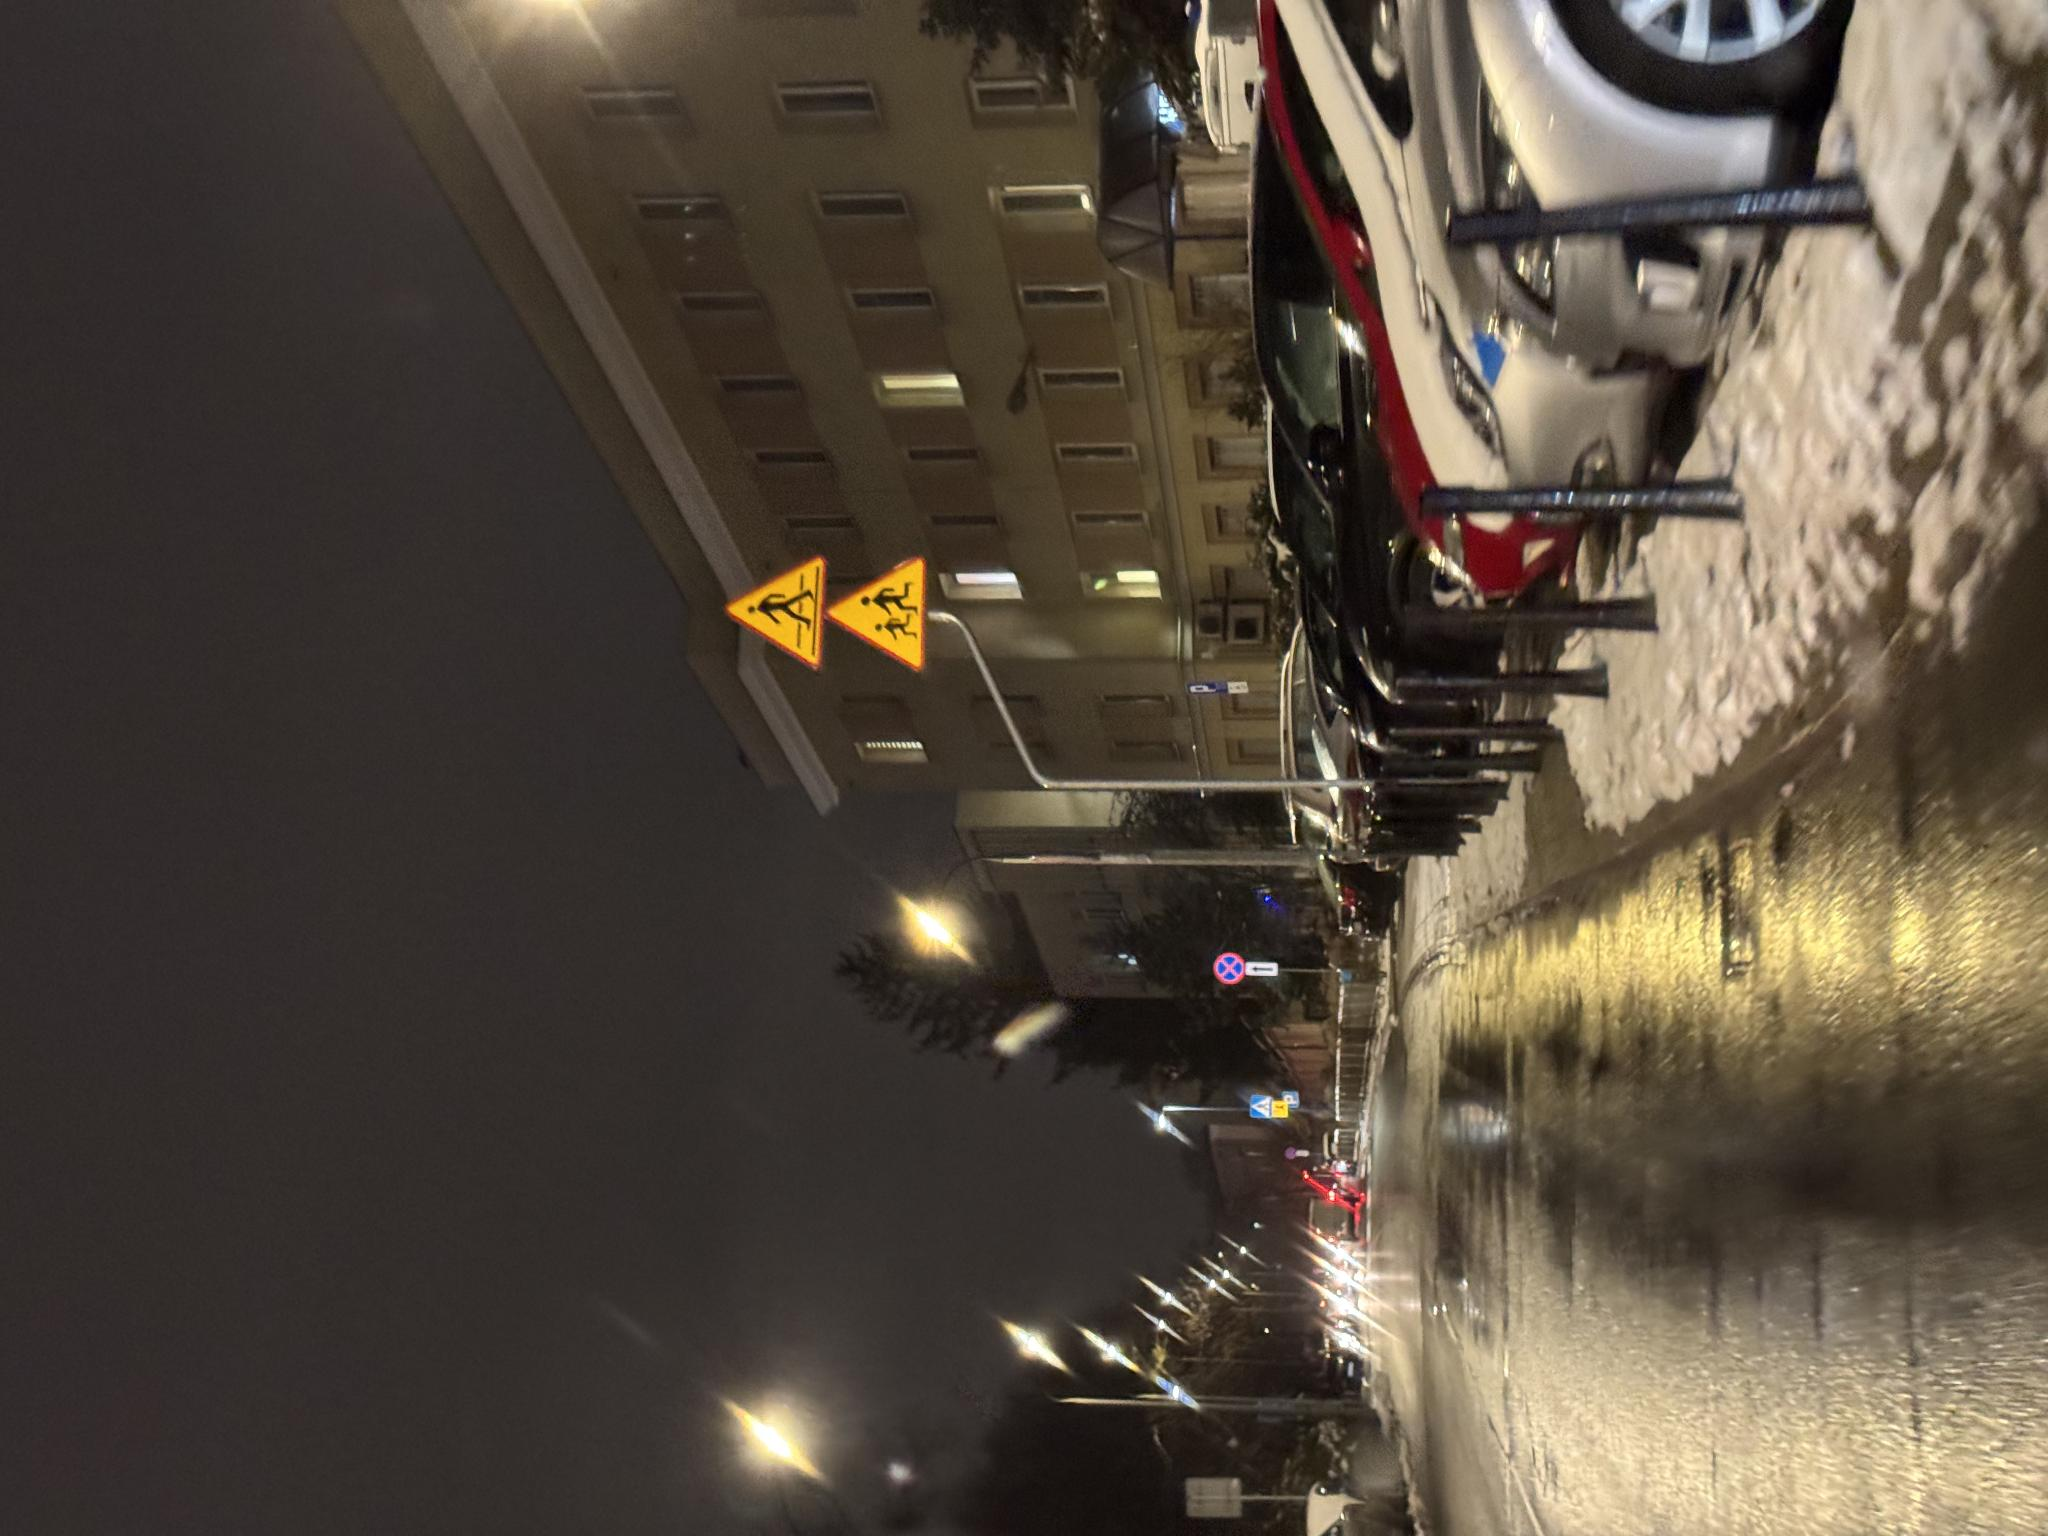information: (418, 1250, 440, 1273)
other: (560, 1247, 574, 1278)
prohibitory: (552, 1213, 584, 1247)
warning: (864, 821, 982, 929), (864, 723, 984, 828)
